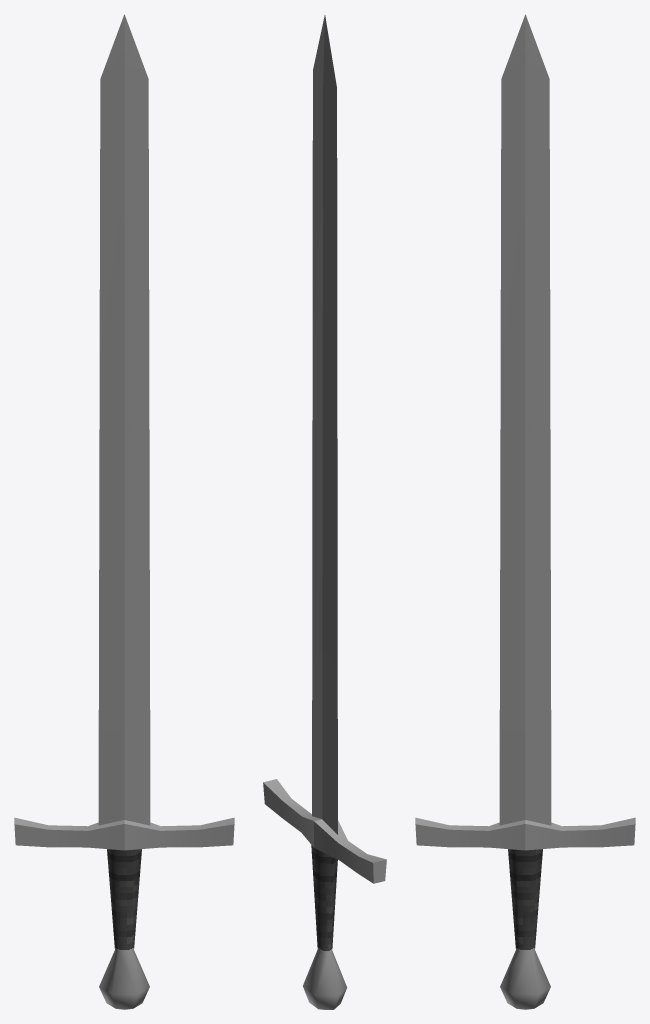
File: Sword.glb
3 views of the same model, side by side, from view 1: azimuth 90°, elevation 25°; view 2: azimuth 210°, elevation 25°; view 3: azimuth 270°, elevation 25° (orthographic).
Visible parts, largest first — view 1: Sphere; view 2: Sphere; view 3: Sphere.
Part boxes in pixels (x1,y1,x2,y2): Sphere: (14, 14, 234, 1009); Sphere: (263, 15, 386, 1009); Sphere: (415, 14, 635, 1009).
Bounding box in the file's own units: 0.2112 × 6.33 × 1.27.
1 material, 1 textured.
